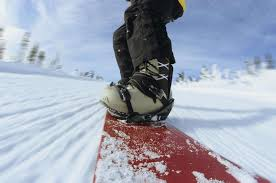snowboard: (92, 104, 276, 183)
